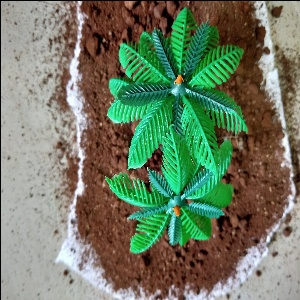plant: (108, 10, 251, 262)
